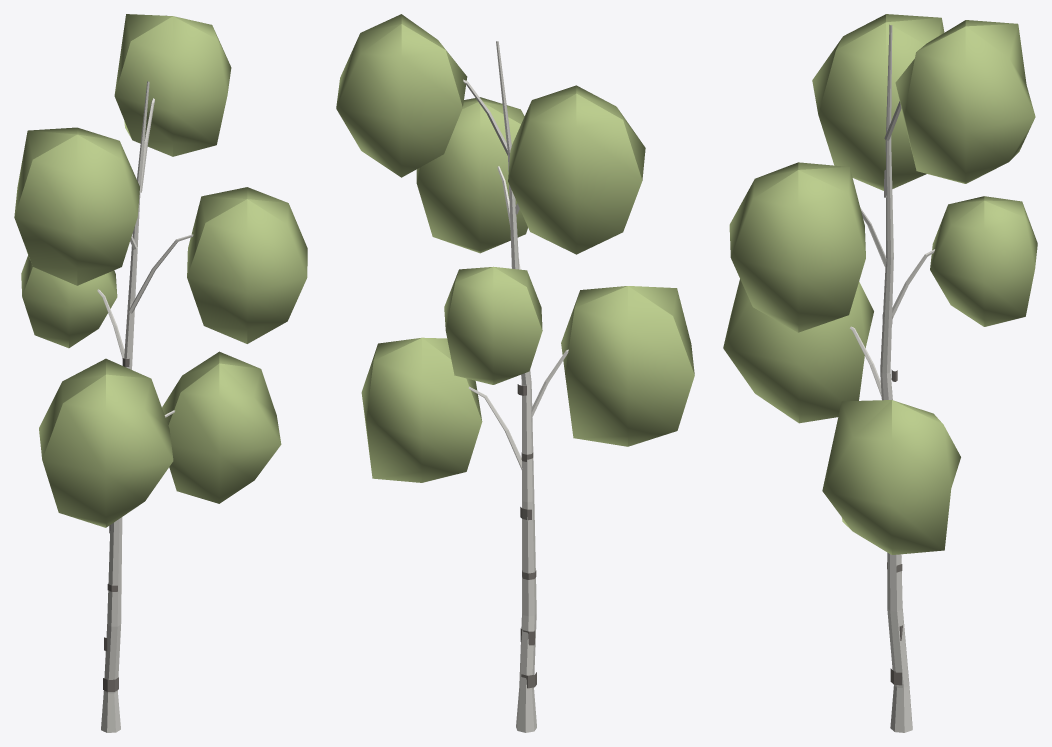
File: birch-young.glb
3 renders of one model, left to right at view 1: azimuth 30°, elevation 25°; view 2: azimuth 150°, elevation 25°; view 3: azimuth 270°, elevation 25°, orthographic. The views are drawn at different scales.
Visible parts, largest first — view 1: birch-young; view 2: birch-young; view 3: birch-young.
Part boxes in pixels (x1=…): birch-young: x1=14, y1=14, x2=307, y2=732; birch-young: x1=336, y1=14, x2=694, y2=732; birch-young: x1=723, y1=14, x2=1037, y2=732.
Size of the model in its own units: 1.9 by 4.41 by 1.67.
